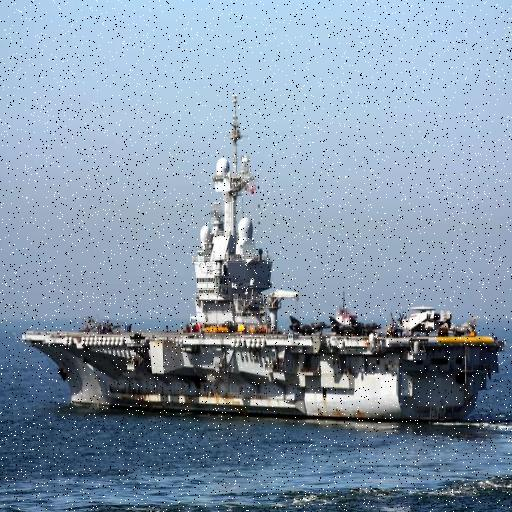Portanaves: (17, 86, 508, 434)
